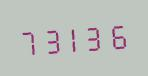one: (62, 20, 83, 55)
seven: (18, 23, 39, 58)
six: (106, 17, 127, 52)
three: (40, 22, 61, 56), (84, 19, 105, 53)
